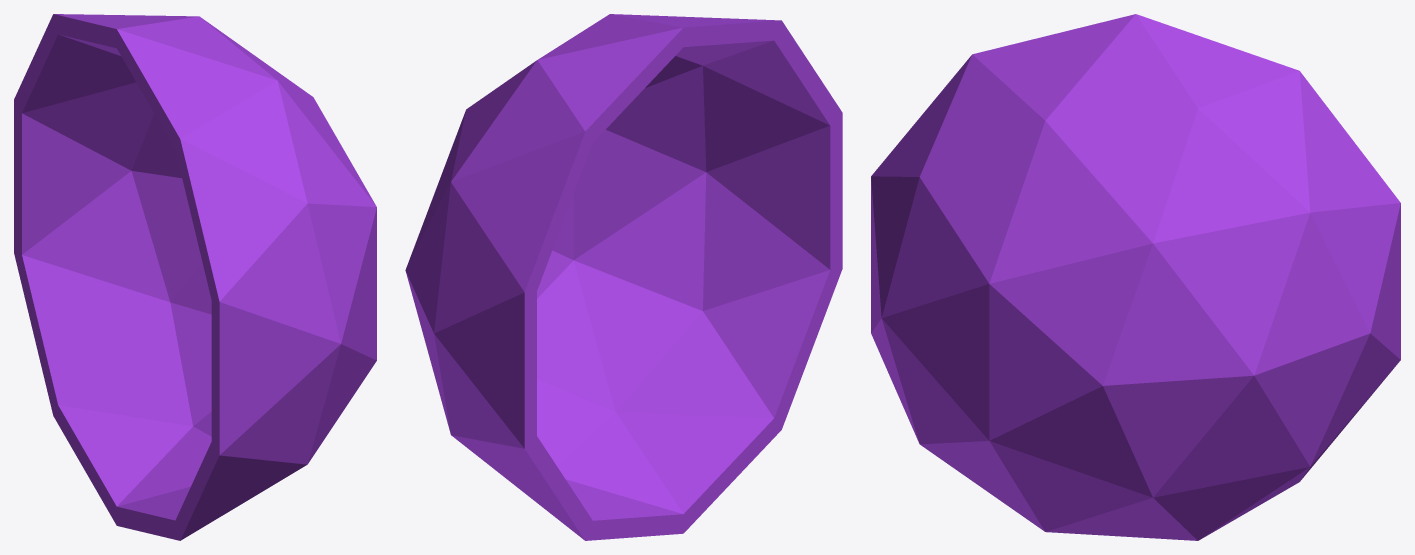
Rendered from Exhibition_14.fbx.
The picture shows the model from 3 angles, left to right: view 1: azimuth 30°, elevation 25°; view 2: azimuth 150°, elevation 25°; view 3: azimuth 270°, elevation 25°; orthographic projection. The views are drawn at different scales.
Visible parts, largest first — view 1: Exhibition_14; view 2: Exhibition_14; view 3: Exhibition_14.
Boxes of the visible parts, x1,y1,x2,y2 form: Exhibition_14: [14, 14, 376, 540]; Exhibition_14: [405, 14, 842, 540]; Exhibition_14: [871, 14, 1400, 540].
Size of the model in its own units: 395 by 715 by 675.
